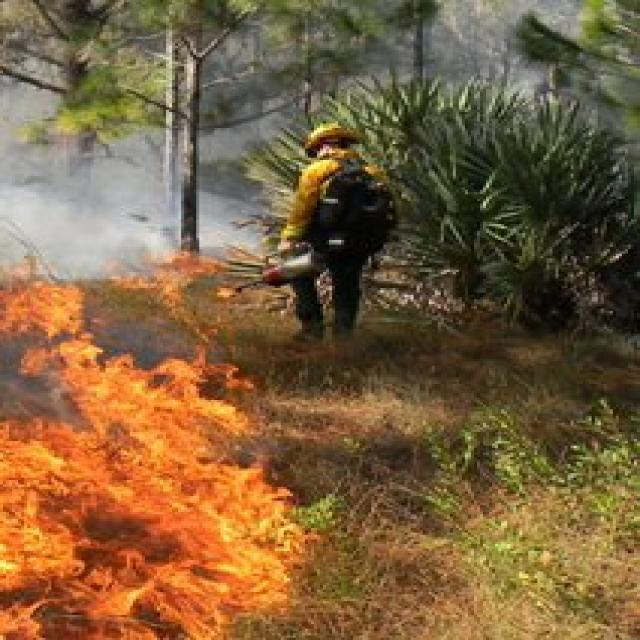Fire: (4, 425, 284, 640), (70, 354, 253, 422), (0, 280, 92, 344)
Smoke: (8, 155, 146, 260)
